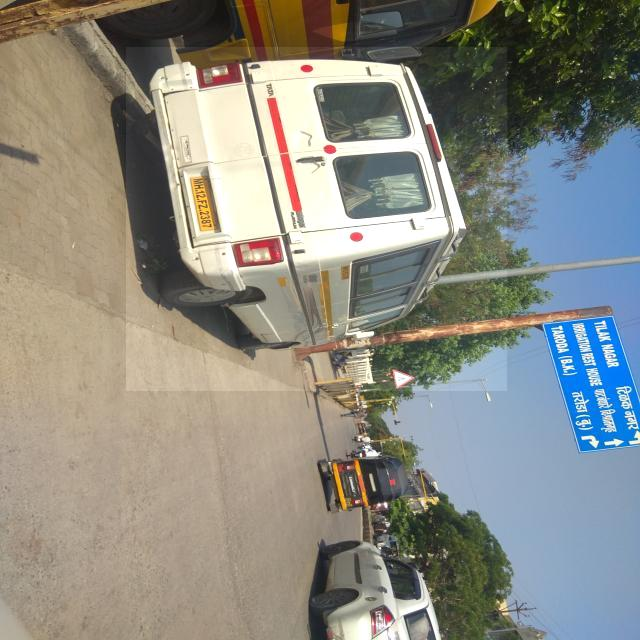Bus: (126, 47, 507, 391)
